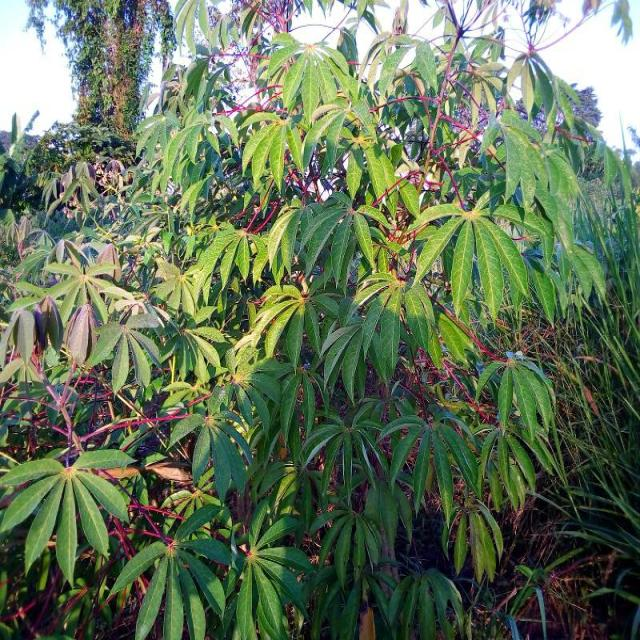cassava leaf: (2, 1, 630, 637), (2, 444, 138, 586)
